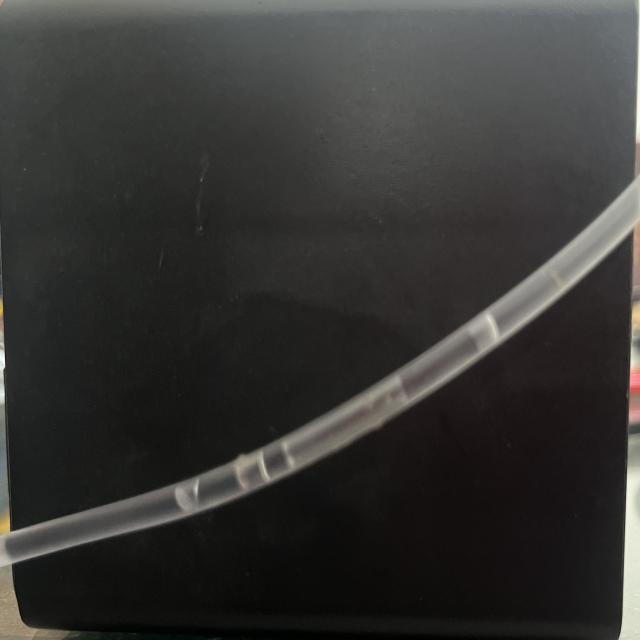bubble: (273, 365, 416, 481), (451, 288, 511, 359), (218, 436, 276, 508), (157, 468, 216, 523)
